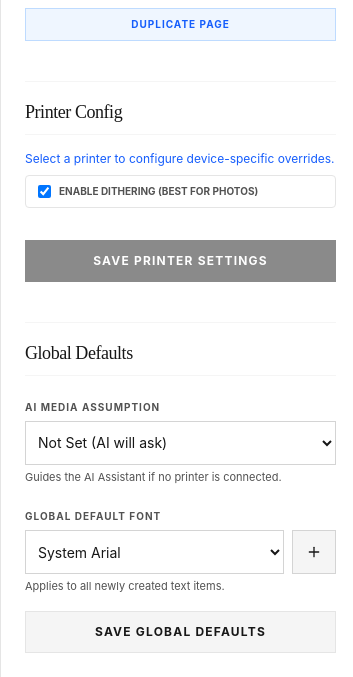
Test case: global defaults report saved only after acknowledgement and until another draft edit
(page scrolled)
Step 1. Select "Both / Mixed" in the dropdown named "intended_media_type" → (180, 442), box [25,420,336,464]
(page scrolled)
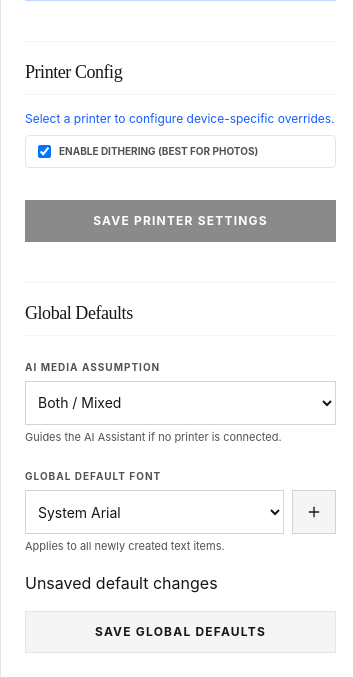
Step 2. Click the button "Save Global Defaults" → (180, 632), box [25,610,336,652]
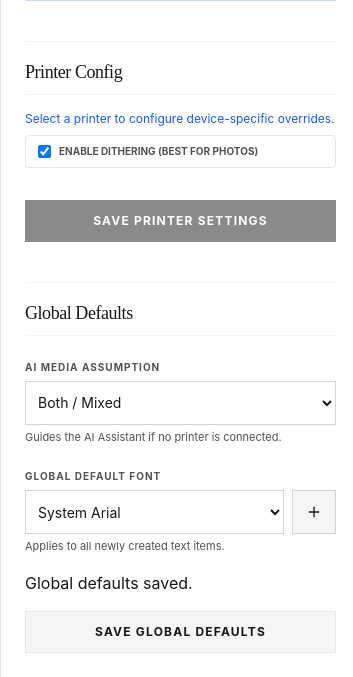
Expected: the text "Global defaults saved." is shown, [25,572,193,592]
Step 3. Select "Continuous Roll (Generic)" in the dropdown named "intended_media_type" → (180, 402), box [25,380,336,424]
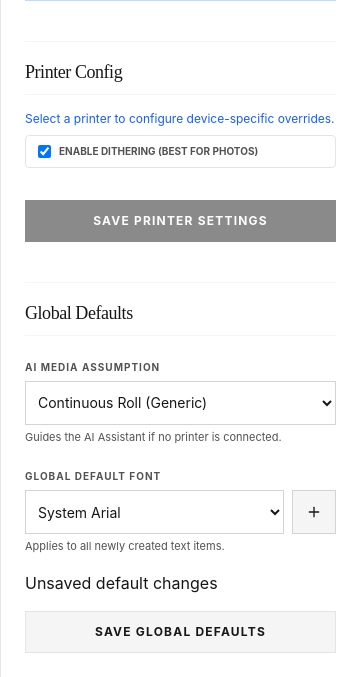
Expected: the text "Global defaults saved." is gone
Expected: the text "Unsaved default changes" is shown, [25,572,218,592]
